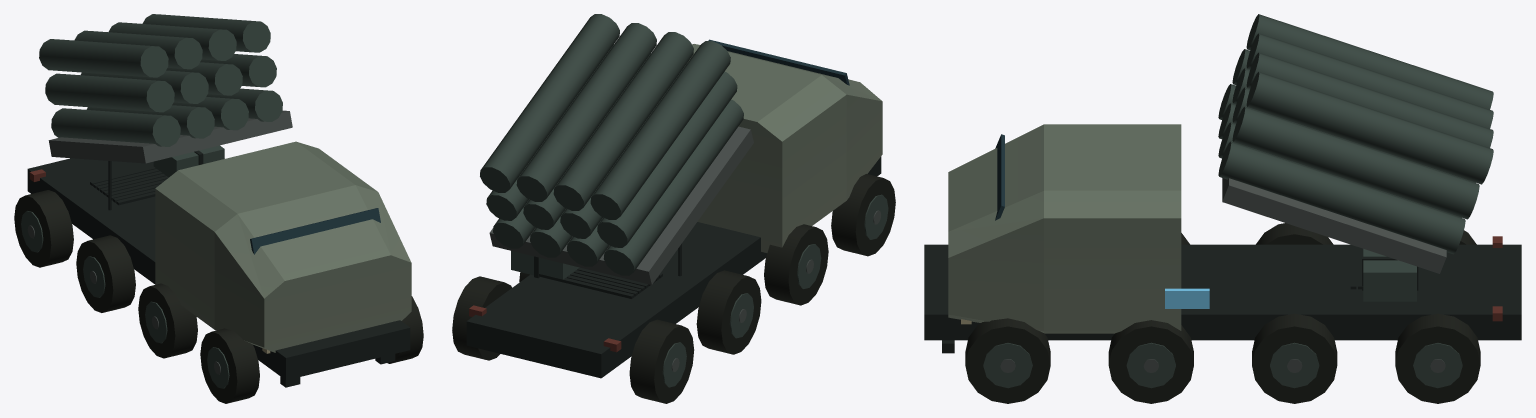
Rendered from mlrs-lod.glb.
3 views of the same model, side by side, from view 1: azimuth 30°, elevation 25°; view 2: azimuth 150°, elevation 25°; view 3: azimuth 270°, elevation 25° (orthographic). The views are drawn at different scales.
Parts seen in each view (by area): view 1: equipment (×2); view 2: equipment (×2); view 3: equipment (×2), marking.
Boxes of the visible parts, box(x1,y1,x2,y2) form: equipment (×2): box(14, 14, 423, 403); equipment (×2): box(452, 14, 895, 403); equipment (×2): box(924, 14, 1521, 403); marking: box(1165, 288, 1209, 308).
Bounding box in the file's own units: 2.84 × 3.8 × 6.7.
